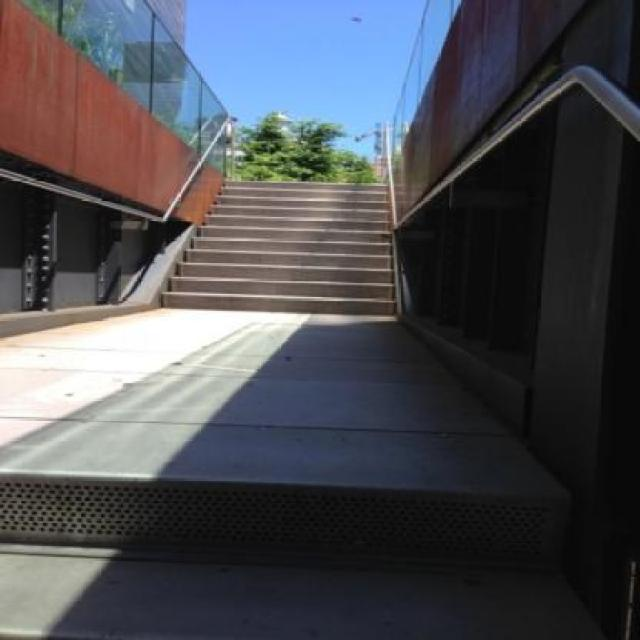stair: (154, 174, 403, 318)
